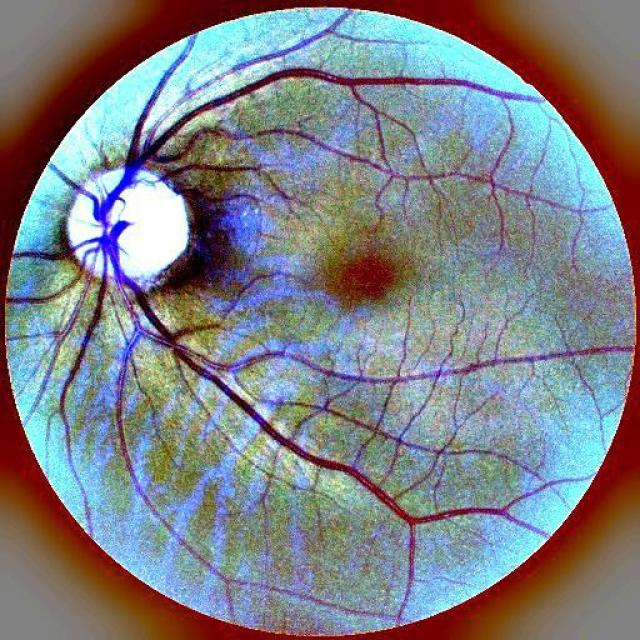Macula: (333, 255, 405, 316)
Nerves: (9, 32, 320, 412), (210, 374, 300, 454), (8, 274, 79, 309)
Optic Disk: (72, 165, 190, 276)
